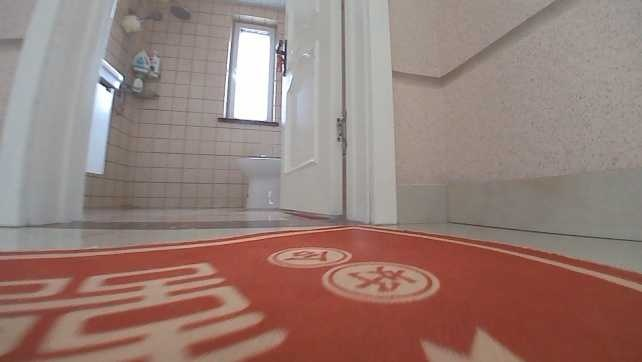blanket: (0, 225, 640, 360)
door_anno: (275, 0, 346, 218)
toilet: (234, 150, 285, 210)
